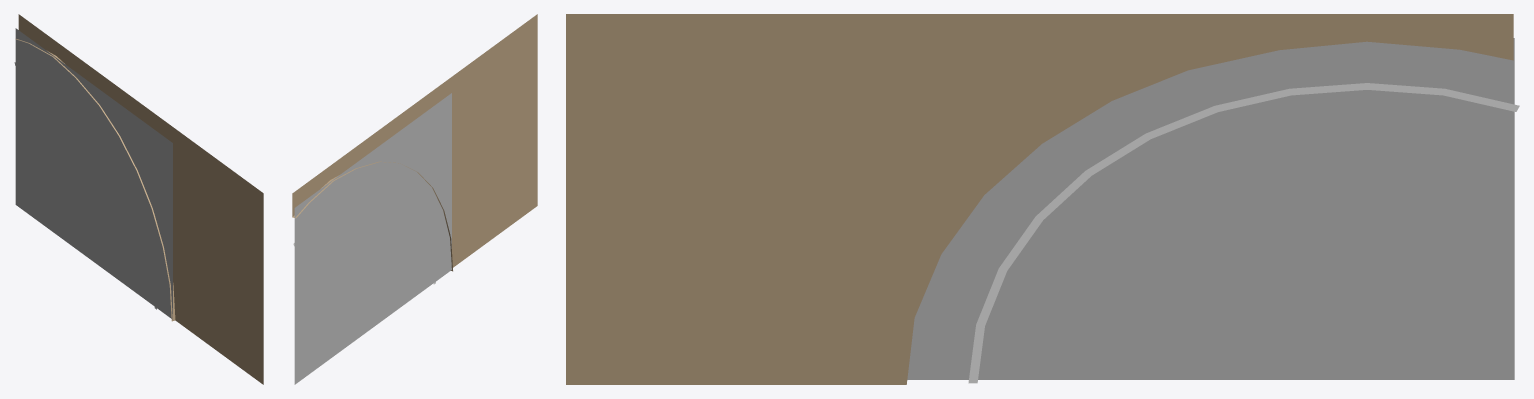
The model's file is M_DogzhuangshiqianR01.FBX.
3 views of the same model, side by side, from view 1: azimuth 30°, elevation 25°; view 2: azimuth 150°, elevation 25°; view 3: azimuth 270°, elevation 25° (orthographic). The views are drawn at different scales.
Visible parts, largest first — view 1: M_DogzhuangshiqianR01_02, M_DogzhuangshiqianR01_01; view 2: M_DogzhuangshiqianR01_02, M_DogzhuangshiqianR01_01; view 3: M_DogzhuangshiqianR01_01, M_DogzhuangshiqianR01_02, M_DogzhuangshiqianR01_03.
Boxes of the visible parts, x1,y1,x2,y2 form: M_DogzhuangshiqianR01_02: (15, 28, 172, 319); M_DogzhuangshiqianR01_01: (15, 14, 263, 384); M_DogzhuangshiqianR01_02: (294, 93, 451, 384); M_DogzhuangshiqianR01_01: (292, 14, 537, 271); M_DogzhuangshiqianR01_01: (566, 14, 1513, 384); M_DogzhuangshiqianR01_02: (907, 38, 1514, 379); M_DogzhuangshiqianR01_03: (968, 83, 1519, 383).
Bounding box in the file's own units: 0.0798 × 3.9 × 9.08.
